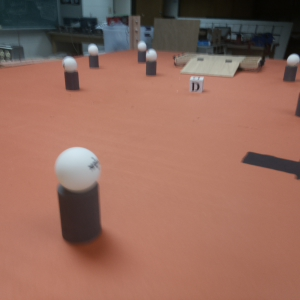obstacle: (53, 148, 105, 246), (62, 56, 81, 91), (284, 54, 299, 83), (144, 49, 157, 75), (88, 42, 99, 68), (138, 41, 146, 62)
side: (243, 55, 267, 73)
slope: (184, 61, 239, 76)
